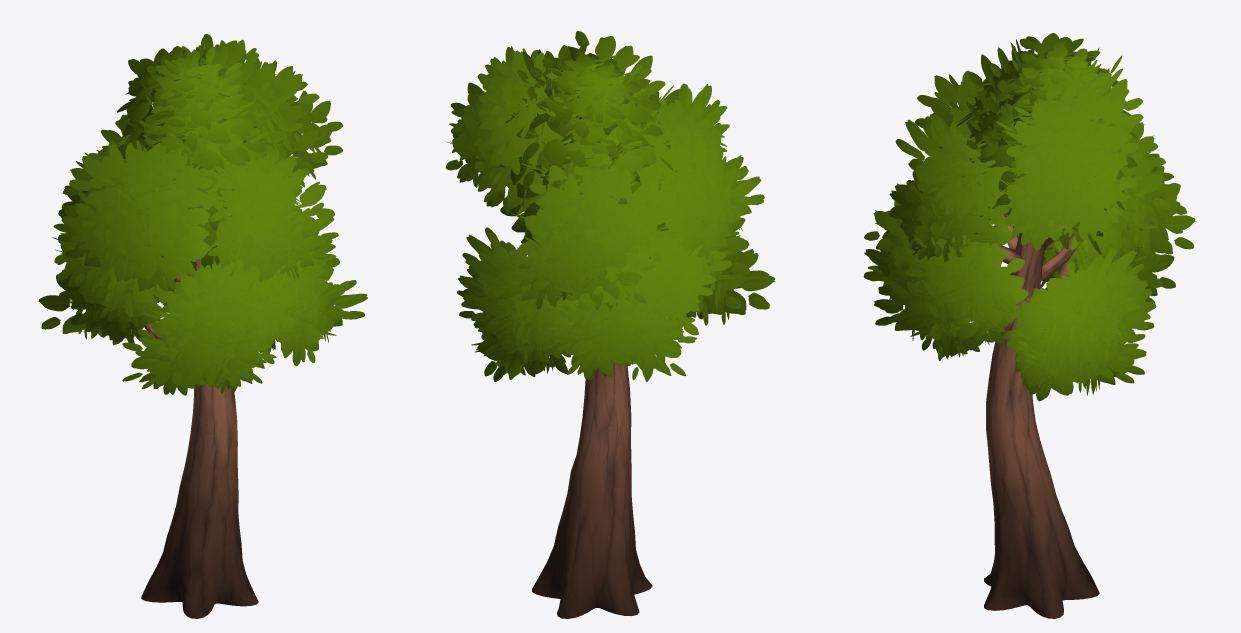
The model's file is CommonTree_1.glb.
3 renders of one model, left to right at view 1: azimuth 30°, elevation 25°; view 2: azimuth 150°, elevation 25°; view 3: azimuth 270°, elevation 25°, orthographic. The views are drawn at different scales.
Visible parts, largest first — view 1: CommonTree_1; view 2: CommonTree_1; view 3: CommonTree_1.
Part boxes in pixels (box(x1,y1,x2,y2)): CommonTree_1: box(38, 34, 367, 618); CommonTree_1: box(445, 31, 775, 618); CommonTree_1: box(863, 33, 1196, 618).
Size of the model in its own units: 4.31 by 7.26 by 4.58.
2 materials, 2 textured.
